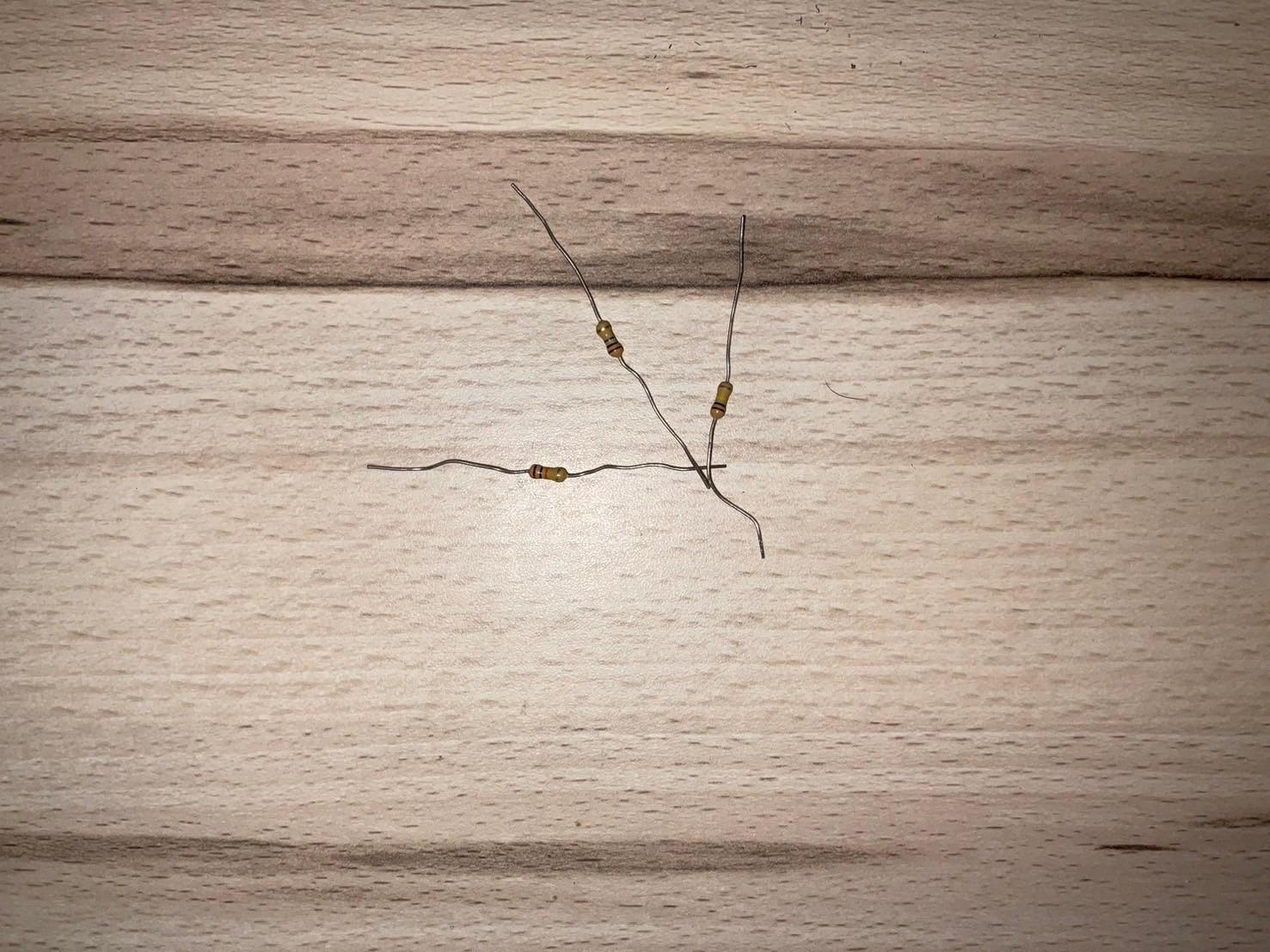resistor: (595, 319, 624, 359), (709, 379, 734, 420), (527, 462, 568, 483)
